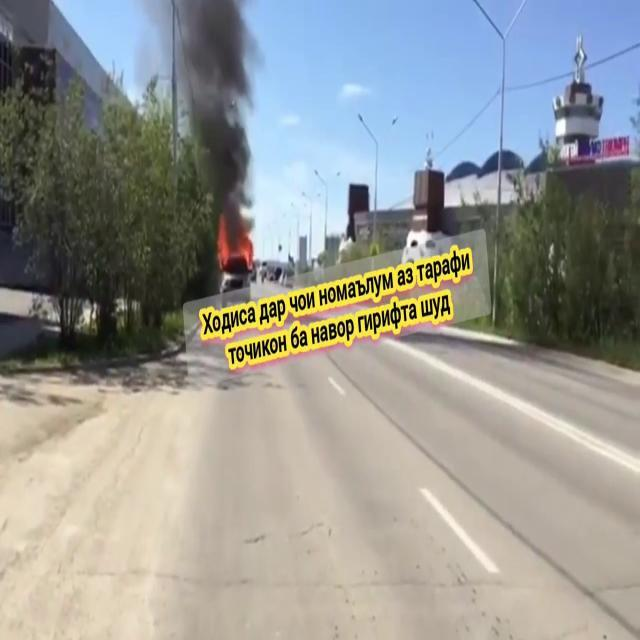Fire: (216, 220, 256, 277)
Smoke: (168, 0, 262, 240)
